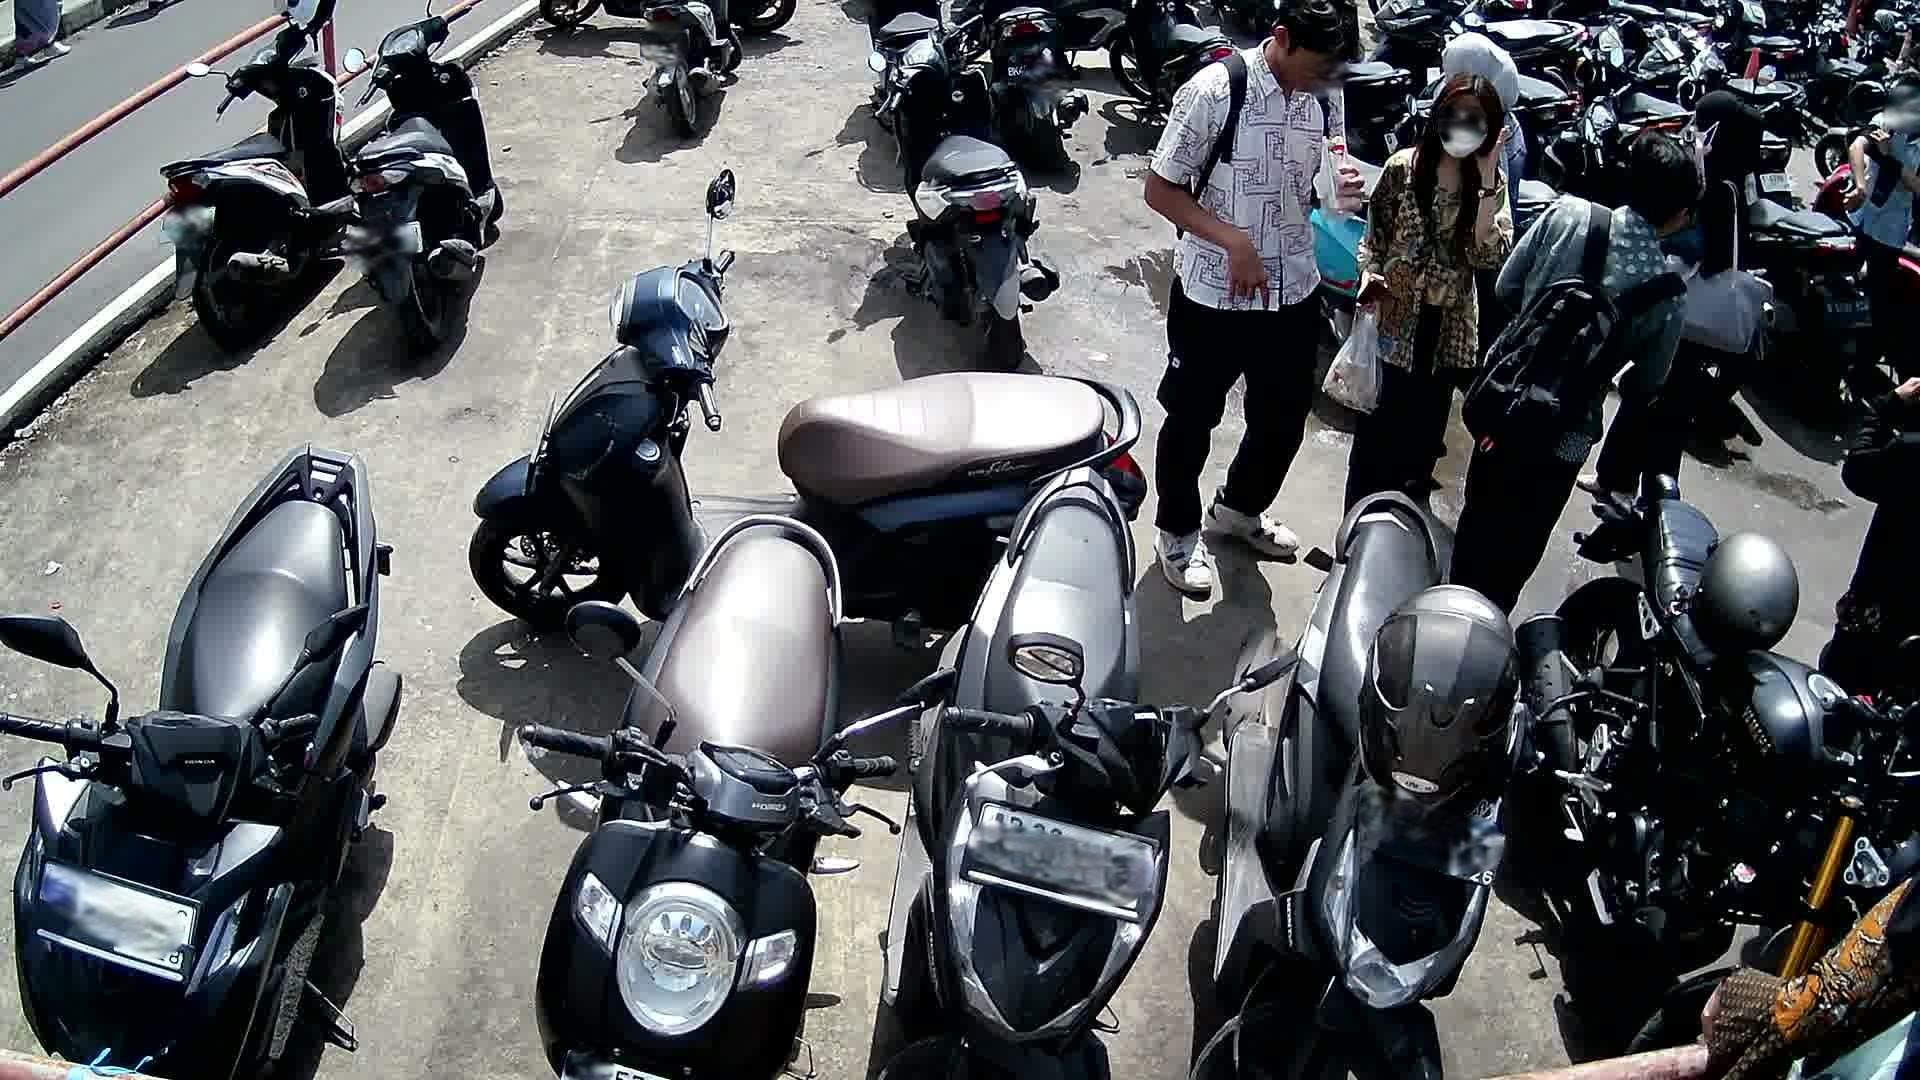motorcycle: (465, 170, 1146, 637), (878, 468, 1298, 1080), (0, 444, 401, 1080), (1519, 475, 1908, 1056), (524, 510, 897, 1080), (1195, 488, 1526, 1080), (870, 20, 1063, 367), (160, 20, 357, 340), (345, 0, 508, 351), (1741, 196, 1880, 419)
